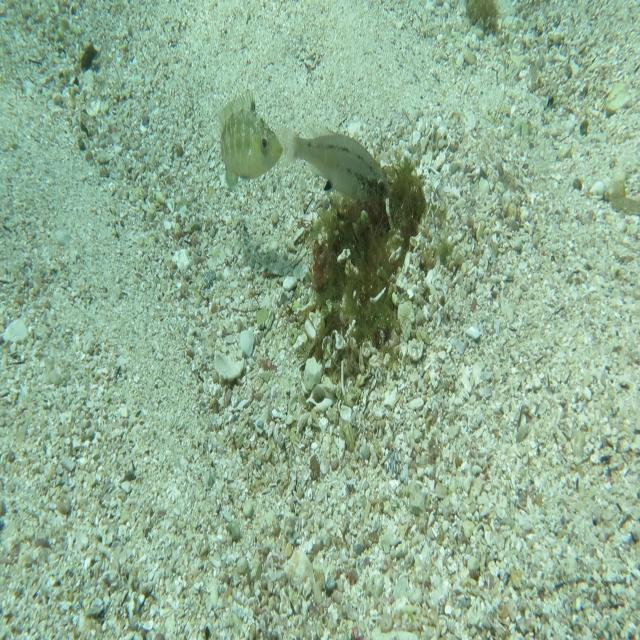GB: (215, 87, 284, 189)
core_nest: (365, 188, 411, 234)
female: (276, 118, 390, 204)
nest: (303, 151, 434, 358)
